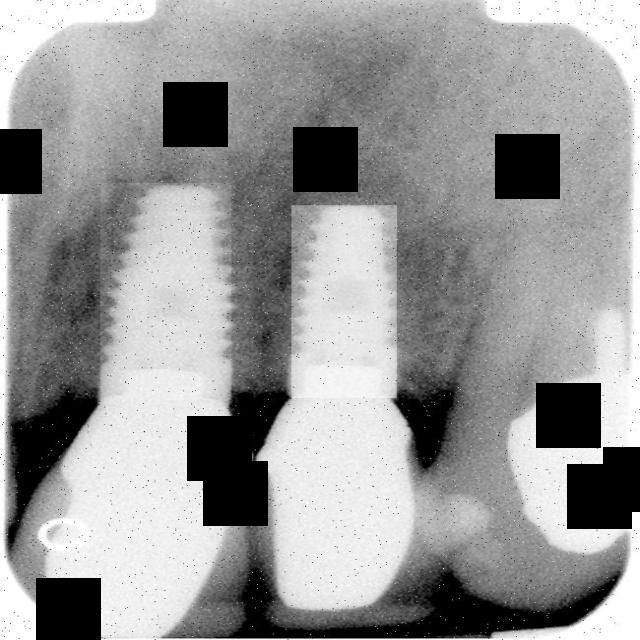Osstem Implant: (100, 181, 237, 401), (289, 199, 422, 399)
